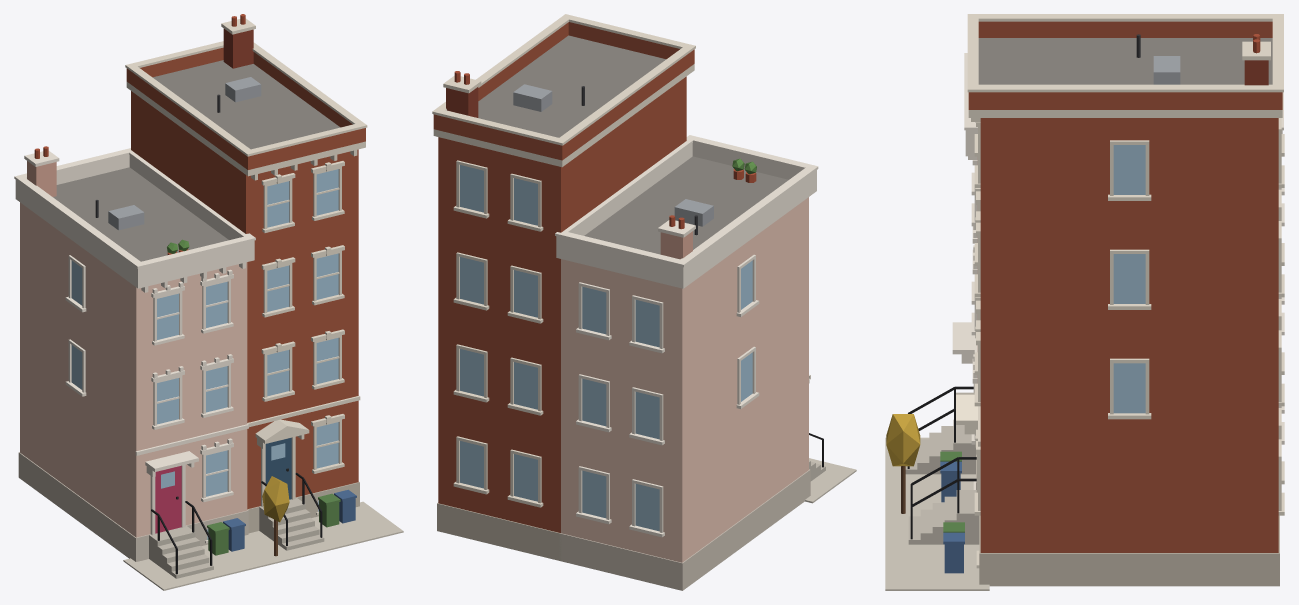
File: SiraEv_karisik_1_1_Hafif.fbx
3 renders of one model, left to right at view 1: azimuth 30°, elevation 25°; view 2: azimuth 150°, elevation 25°; view 3: azimuth 270°, elevation 25°, orthographic. The views are drawn at different scales.
Parts seen in each view (by area): view 1: SiraEv_karisik_1_1_Hafif; view 2: SiraEv_karisik_1_1_Hafif; view 3: SiraEv_karisik_1_1_Hafif.
Part boxes in pixels (x1=…): SiraEv_karisik_1_1_Hafif: x1=14, y1=14, x2=403, y2=590; SiraEv_karisik_1_1_Hafif: x1=432, y1=14, x2=856, y2=590; SiraEv_karisik_1_1_Hafif: x1=885, y1=14, x2=1284, y2=590.
Size of the model in its own units: 8.93 by 14.82 by 9.95.
